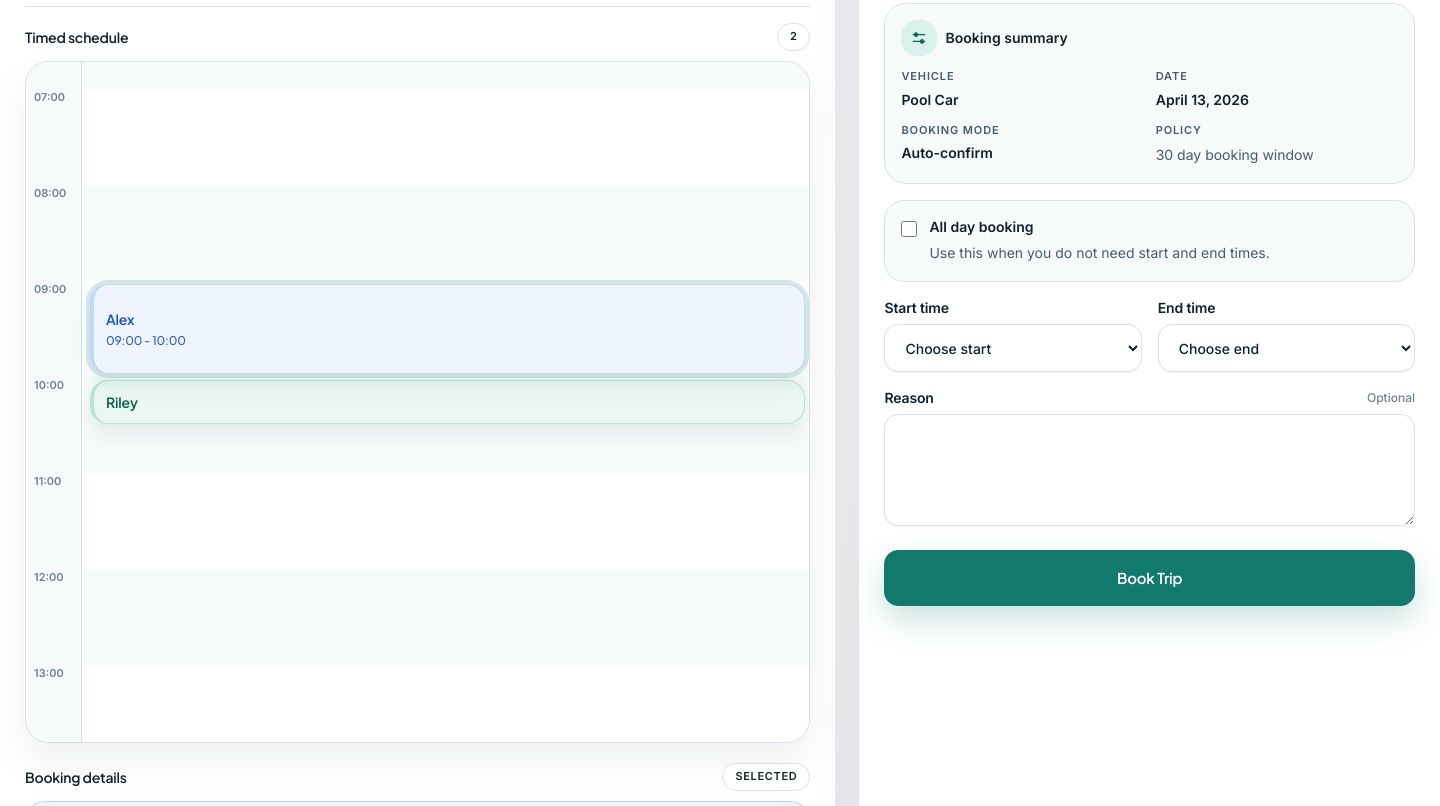
Test case: BookingWorkspace › expands details for the selected timeline booking
(page scrolled)
Click the button "Riley" at (122, 402), box [90,380,805,424]
(page scrolled)
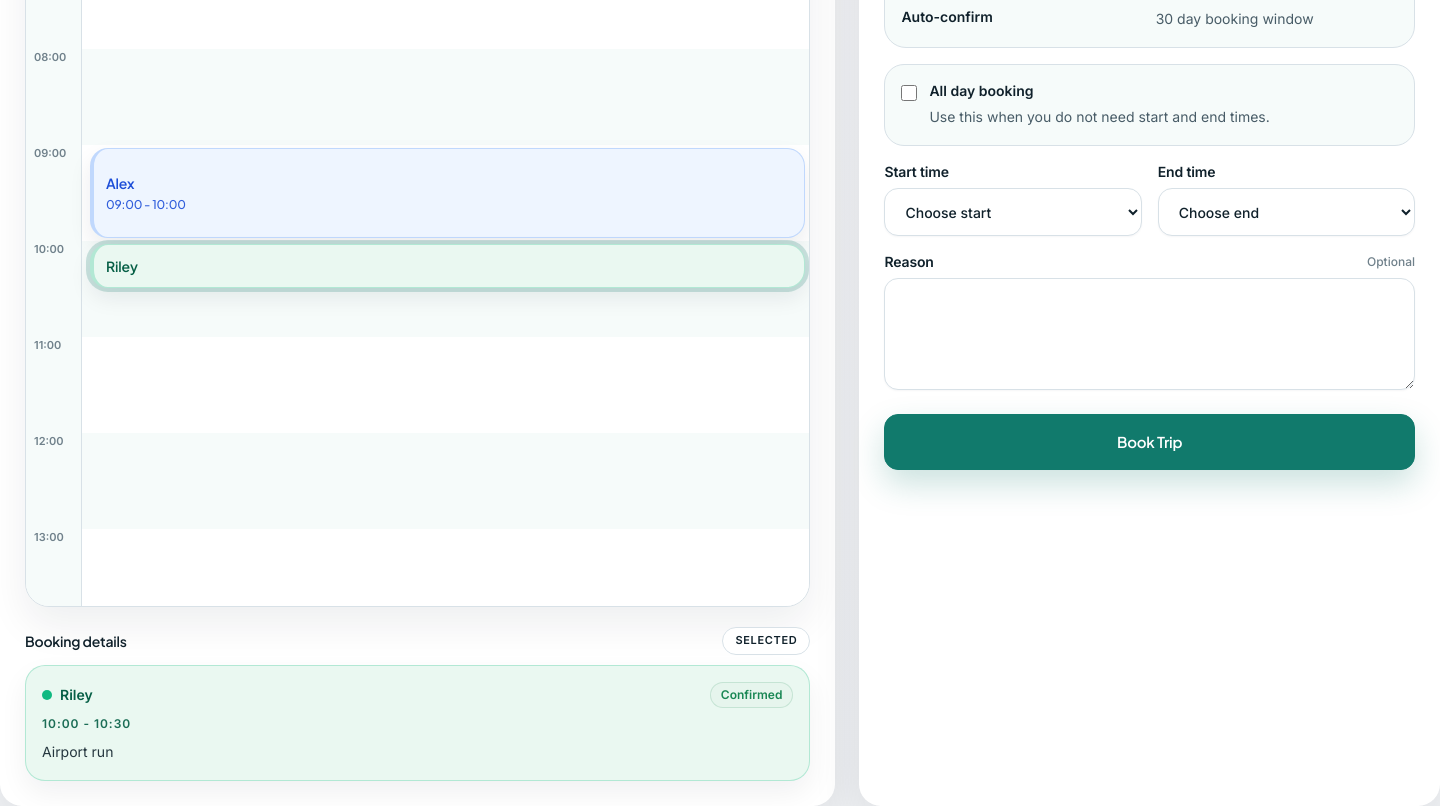
Now the text "Airport run" is shown, box [42,743,113,760]
